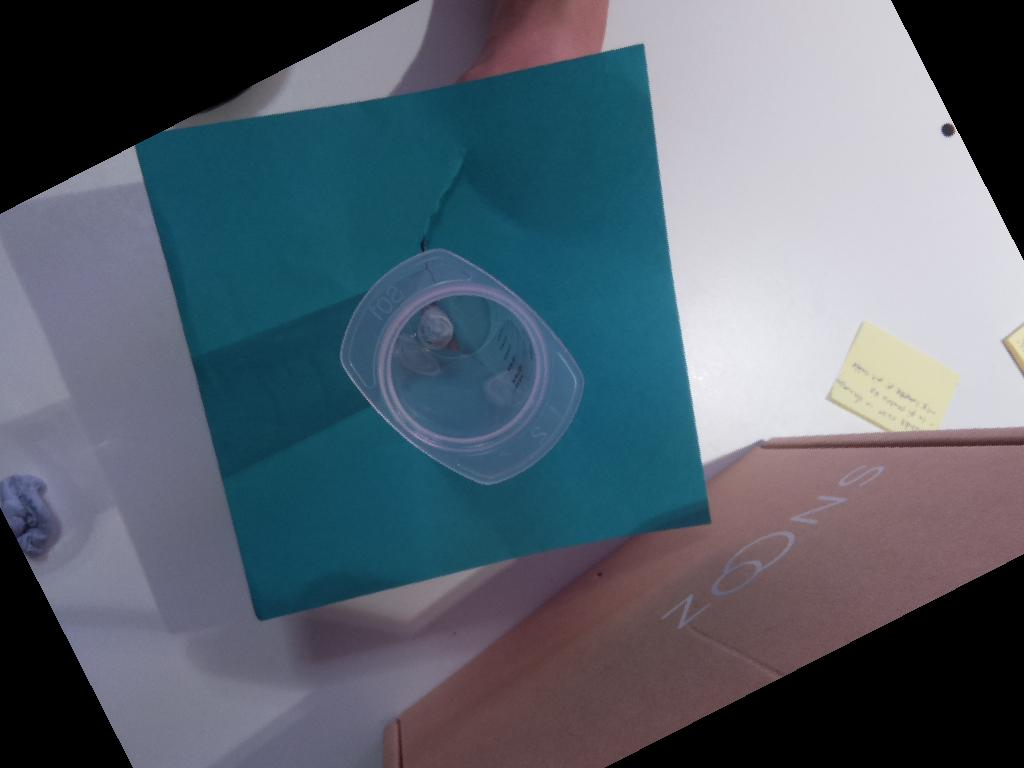clean: (340, 249, 586, 486)
